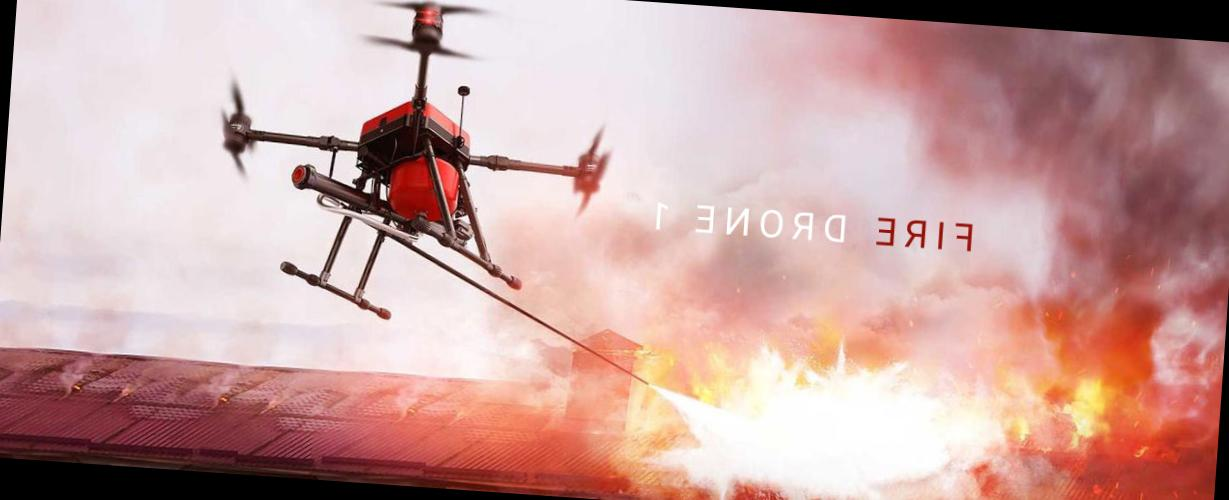drone: (184, 0, 637, 270)
